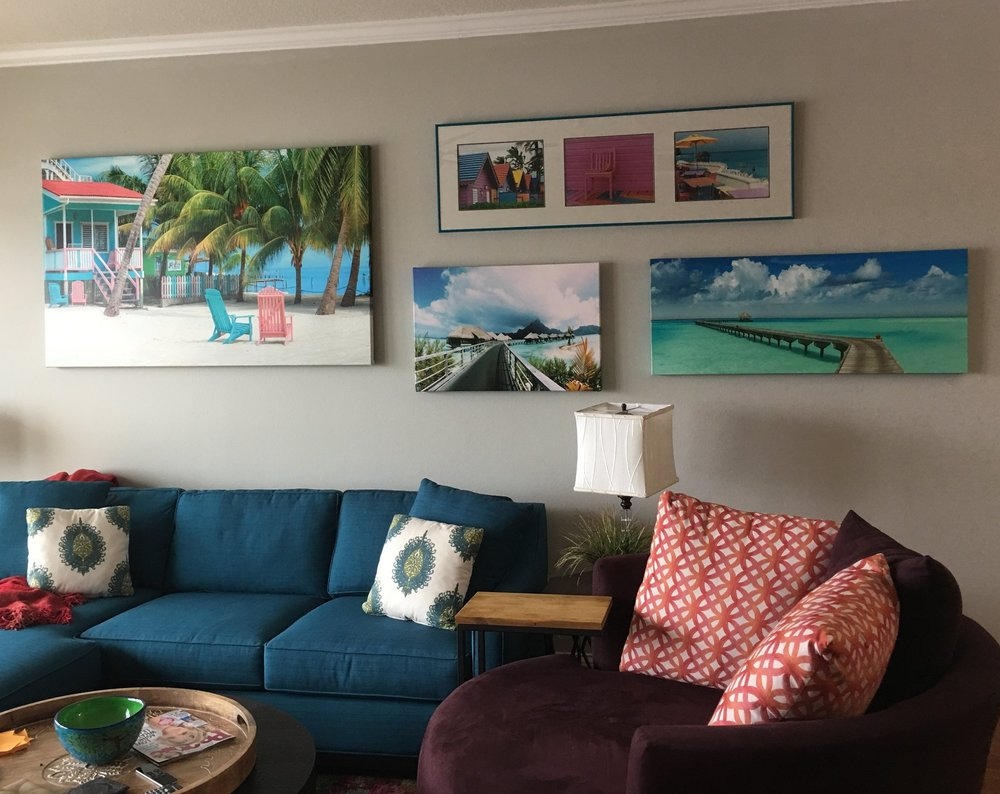biru: (144, 496, 371, 668)
hijau: (53, 704, 144, 760)
merah: (1, 575, 65, 624)
putih: (574, 406, 684, 492)
